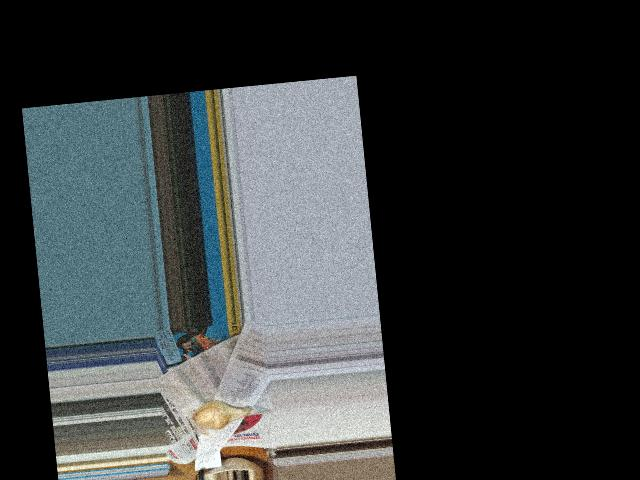onion: (193, 396, 246, 429)
